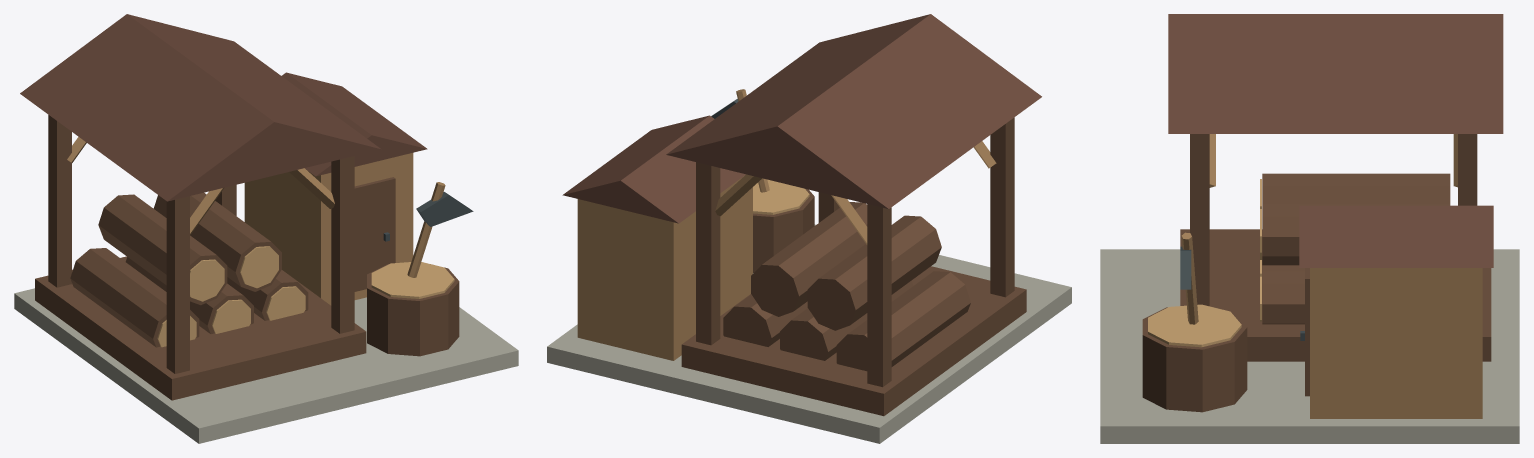
Rendered from lumber-camp.glb.
3 views of the same model, side by side, from view 1: azimuth 30°, elevation 25°; view 2: azimuth 150°, elevation 25°; view 3: azimuth 270°, elevation 25° (orthographic). The views are drawn at different scales.
Visible parts, largest first — view 1: WoodDark, RoofBrown, Concrete, Wood, EndGrain, Metal; view 2: WoodDark, RoofBrown, Wood, Concrete, EndGrain; view 3: RoofBrown, WoodDark, Concrete, Wood, EndGrain, Metal.
Boxes of the visible parts, x1=… form: WoodDark: x1=35, y1=115, x2=459, y2=400; RoofBrown: x1=20, y1=14, x2=427, y2=201; Concrete: x1=14, y1=288, x2=518, y2=443; Wood: x1=67, y1=137, x2=445, y2=305; EndGrain: x1=157, y1=246, x2=454, y2=347; Metal: x1=383, y1=192, x2=473, y2=241; WoodDark: x1=681, y1=117, x2=1026, y2=416; RoofBrown: x1=562, y1=14, x2=1041, y2=223; Wood: x1=577, y1=89, x2=996, y2=360; Concrete: x1=547, y1=224, x2=1071, y2=443; EndGrain: x1=753, y1=179, x2=809, y2=214; RoofBrown: x1=1168, y1=14, x2=1503, y2=267; WoodDark: x1=1142, y1=134, x2=1491, y2=412; Concrete: x1=1100, y1=249, x2=1519, y2=443; Wood: x1=1181, y1=134, x2=1482, y2=418; EndGrain: x1=1148, y1=179, x2=1261, y2=347; Metal: x1=1180, y1=246, x2=1304, y2=340.
Size of the model in its own units: 1.95 by 1.59 by 1.94.
